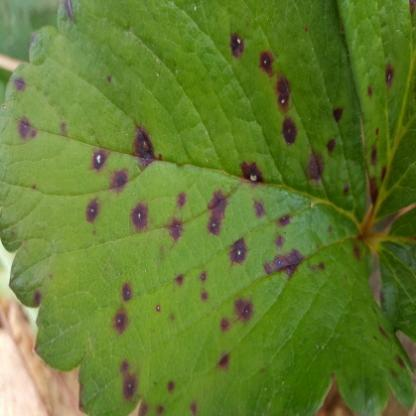Strawberry_Leaf_Spot: (0, 0, 415, 415), (335, 0, 415, 226)
